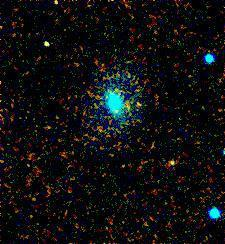star: (163, 144, 193, 174)
